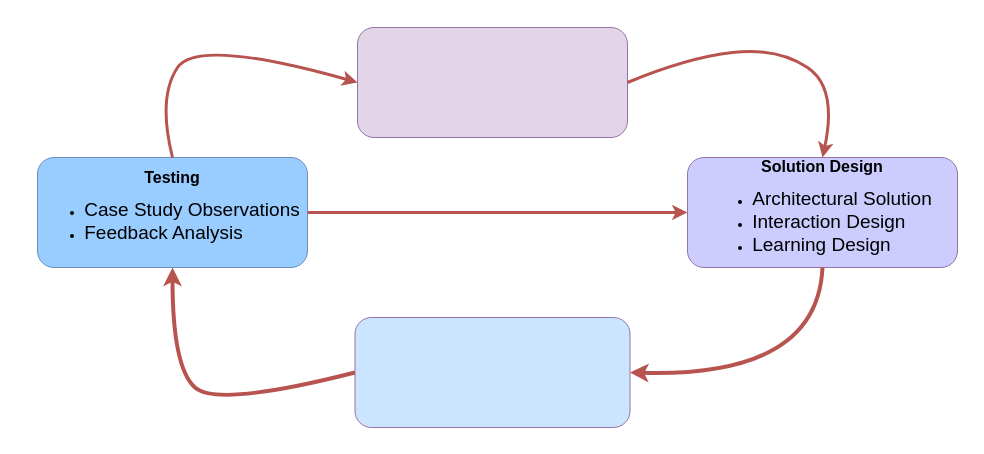
The diagram is 984 pixels wide and 454 high, and some of its shapes have lost their labels. The centre of each missing label's shape, as x and y in pixels:
Implementation Prototyping Quick Tests: [492,372]
Requirements Analysis Iteration Goals Use Case Descriptions: [492,82]
